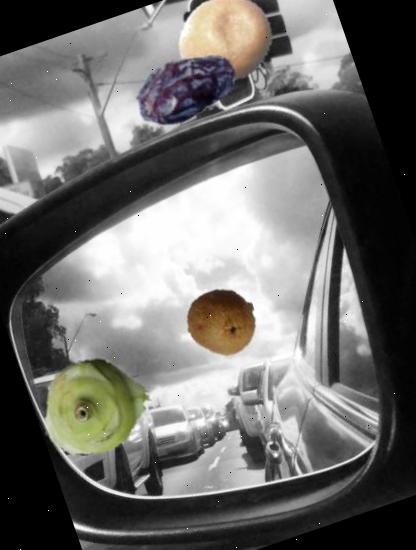Dates: (117, 19, 253, 155)
Kiwi: (178, 278, 266, 366)
Kohlrabi: (31, 340, 166, 476)
Kumquats: (166, 0, 285, 98)
